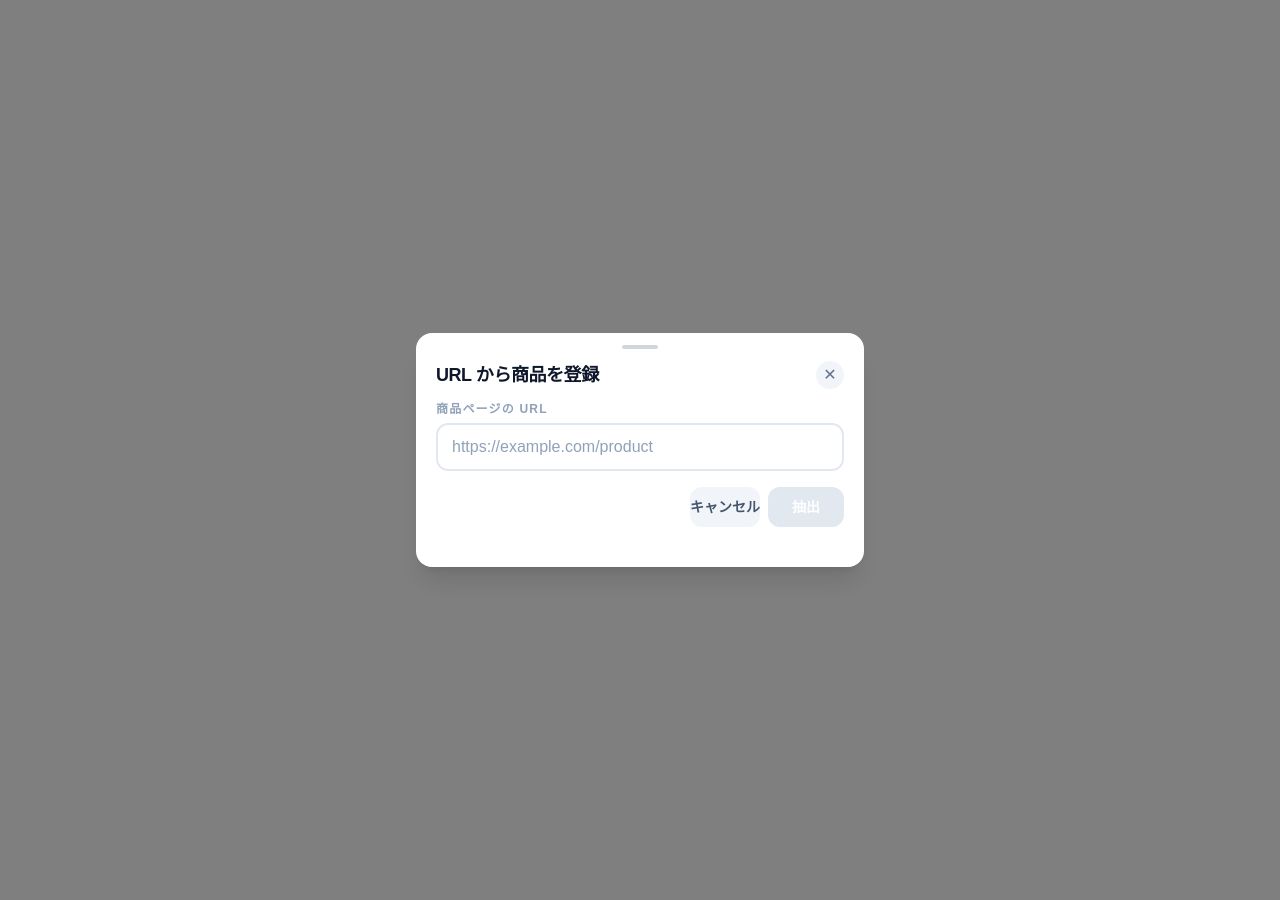
Test: UrlRegistrationModal › URL を入力して送信するとストリーミング中にステップリストが表示される
Type "https://example.com" into the field labelled "商品ページの URL" at (640, 447), box x1=436 y1=423 x2=844 y2=471
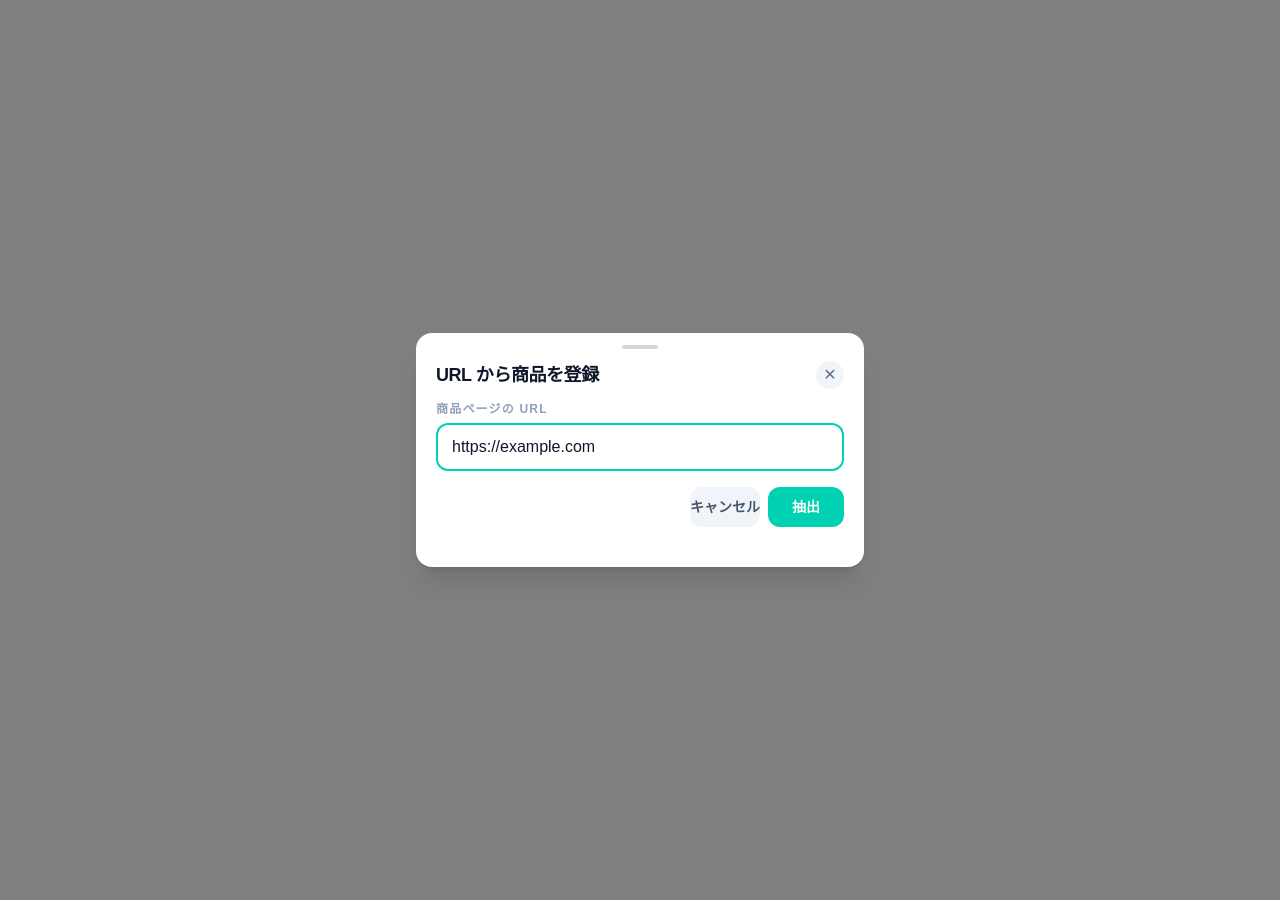
Click the button "抽出" at (806, 507), box x1=768 y1=487 x2=844 y2=527
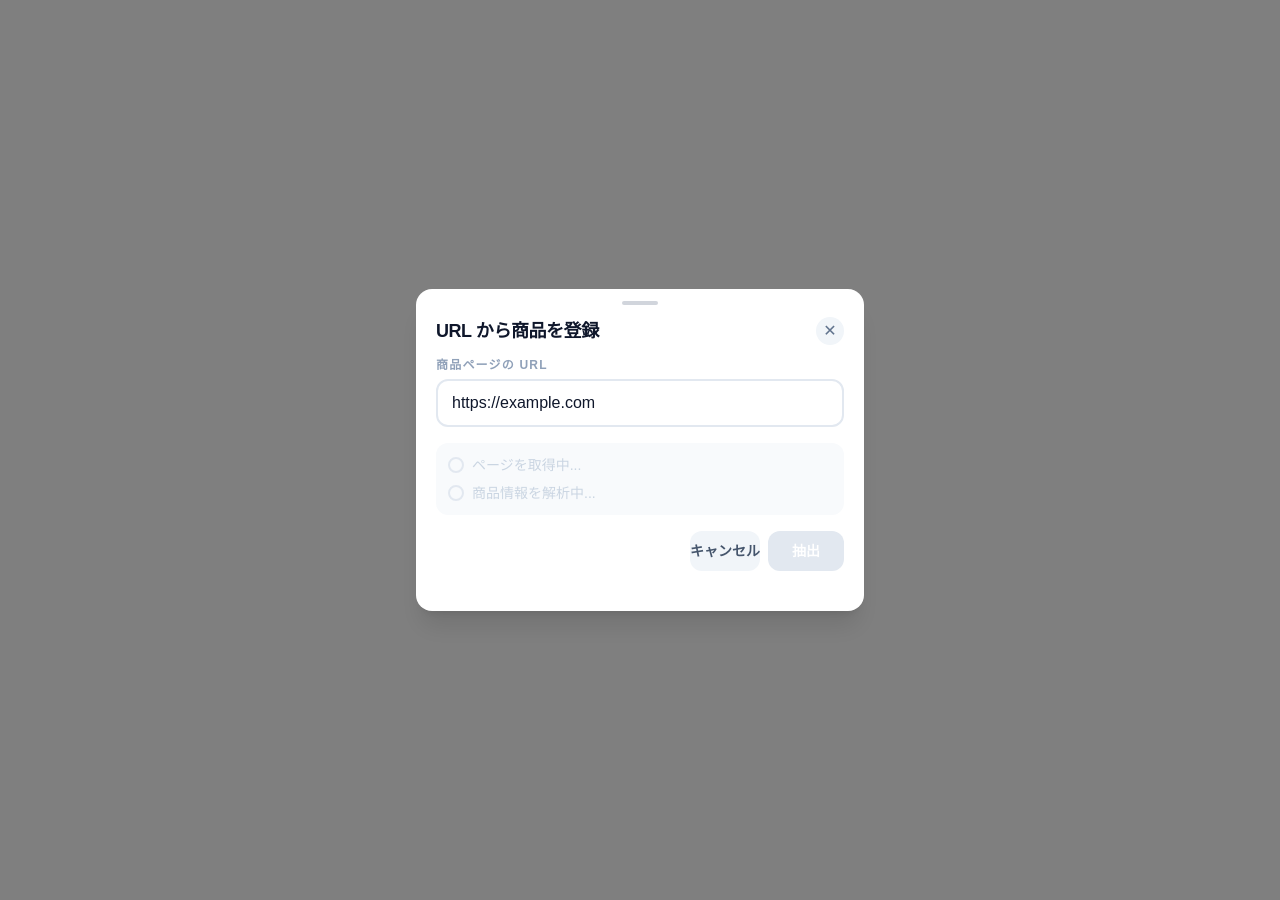
Expected: the text "ページを取得中..." is shown, x1=472 y1=455 x2=581 y2=475
Expected: the button "抽出" is disabled, x1=768 y1=531 x2=844 y2=571
